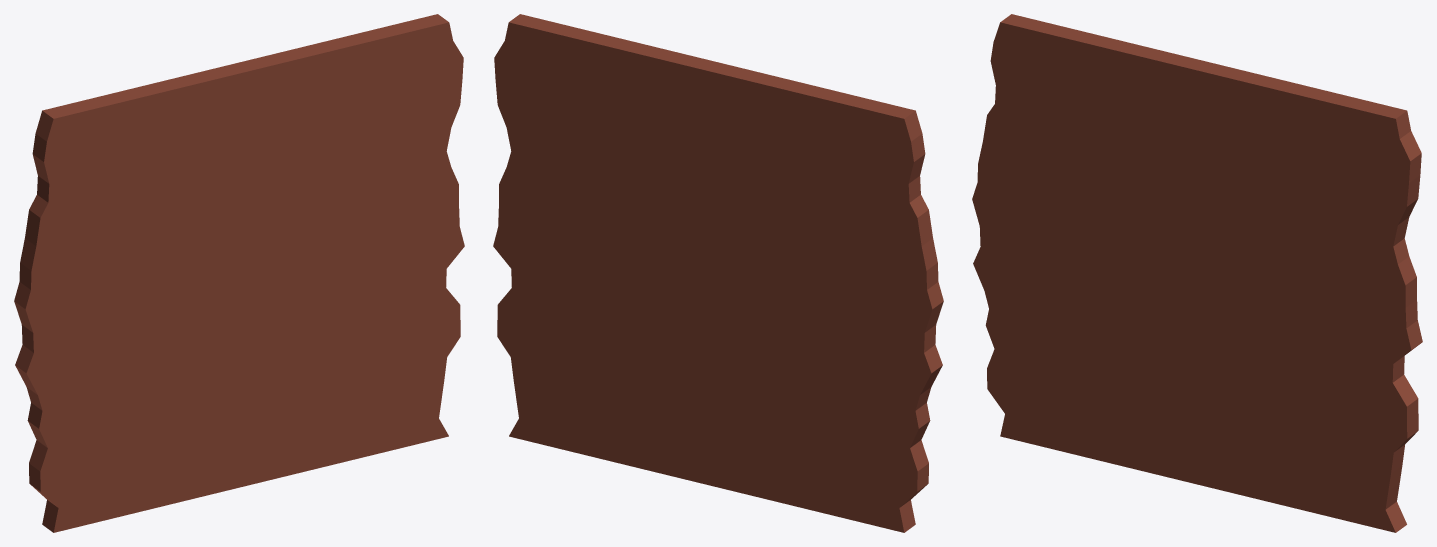
Rendered from Tile10.glb.
3 renders of one model, left to right at view 1: azimuth 30°, elevation 25°; view 2: azimuth 150°, elevation 25°; view 3: azimuth 330°, elevation 25°, orthographic.
Parts seen in each view (by area): view 1: 10; view 2: 10; view 3: 10.
Boxes of the visible parts, <box> form: 10: <box>14,14,464,532</box>; 10: <box>493,14,943,532</box>; 10: <box>972,14,1422,532</box>.
Bounding box in the file's own units: 2.22 × 2 × 0.1.
1 material, 1 textured.
